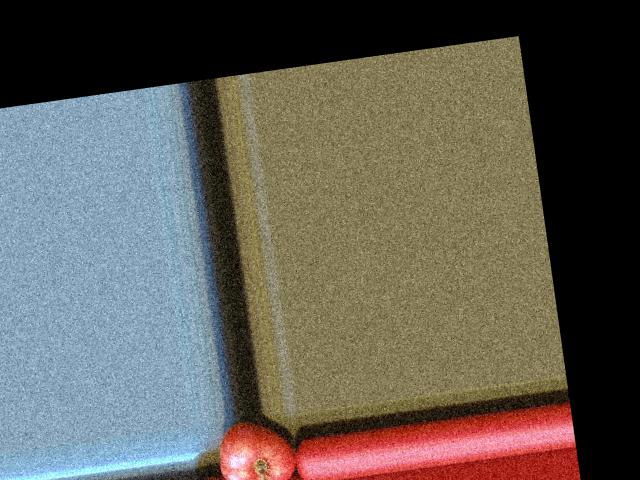tomato: (215, 415, 298, 480)
